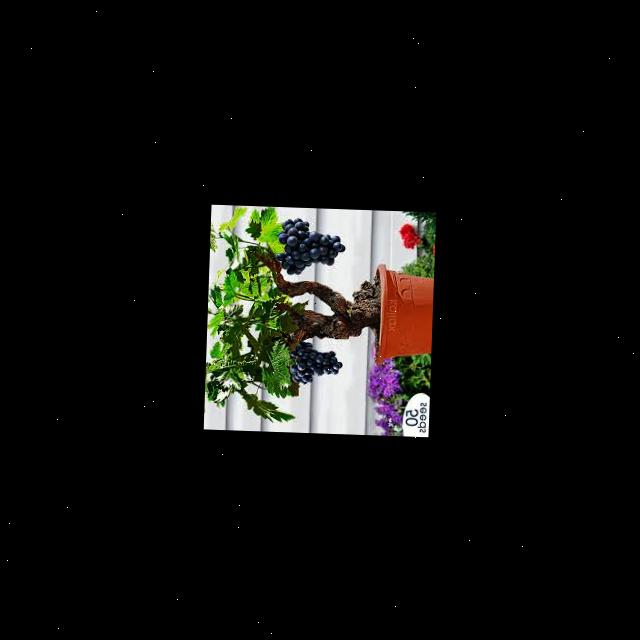grape: (275, 216, 346, 275), (288, 340, 342, 384)
